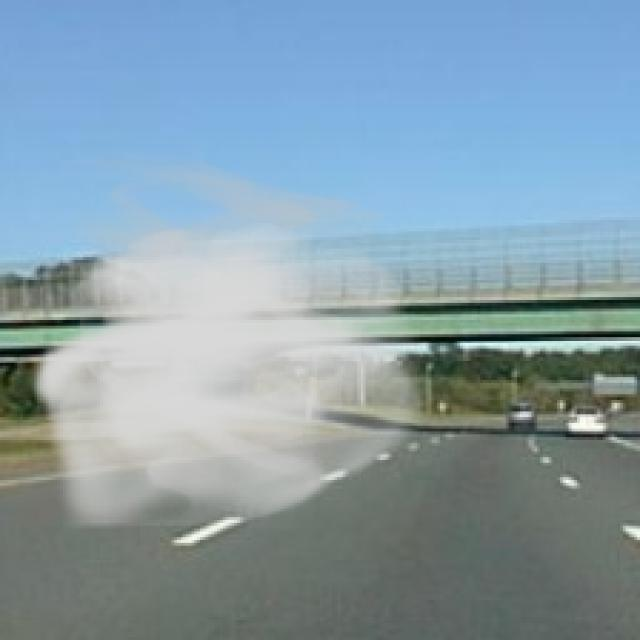Smoke: (28, 148, 440, 540)
